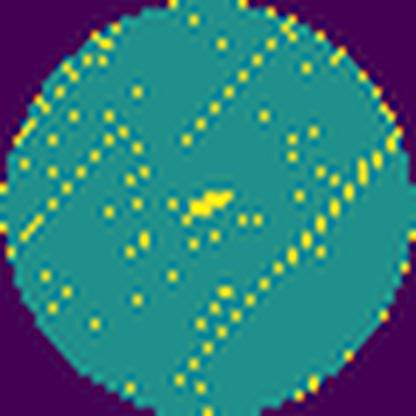Center: (186, 188, 235, 218)
